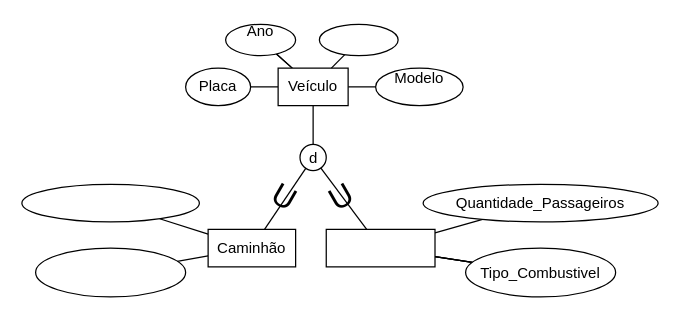
The diagram is 680 pixels wide and 319 high, and some of its shapes have lost their labels. The box of each missing label's shape, as (x1, y1, x2, y2) in pixels:
Capacidade_Carga: (21, 183, 199, 222)
Carro Passeio: (325, 228, 435, 267)
Chassi: (318, 23, 398, 56)
Quantidade_Eixos: (34, 247, 186, 297)
